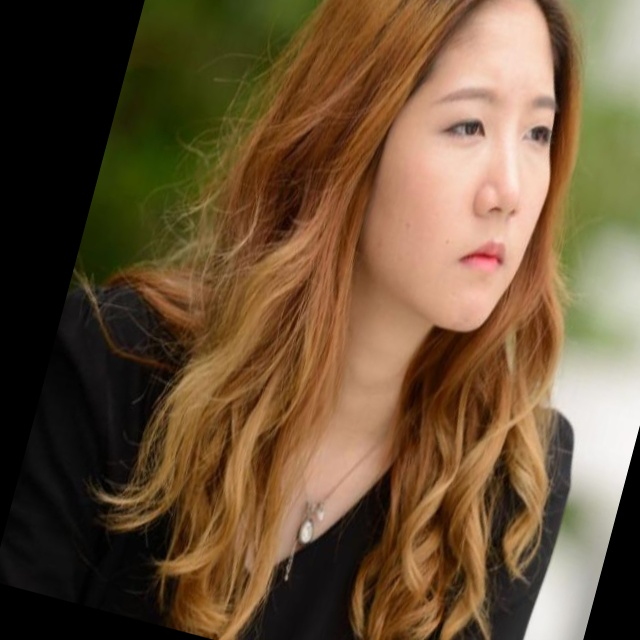Sin_Casco_Mascarrilla: (259, 0, 625, 353)
